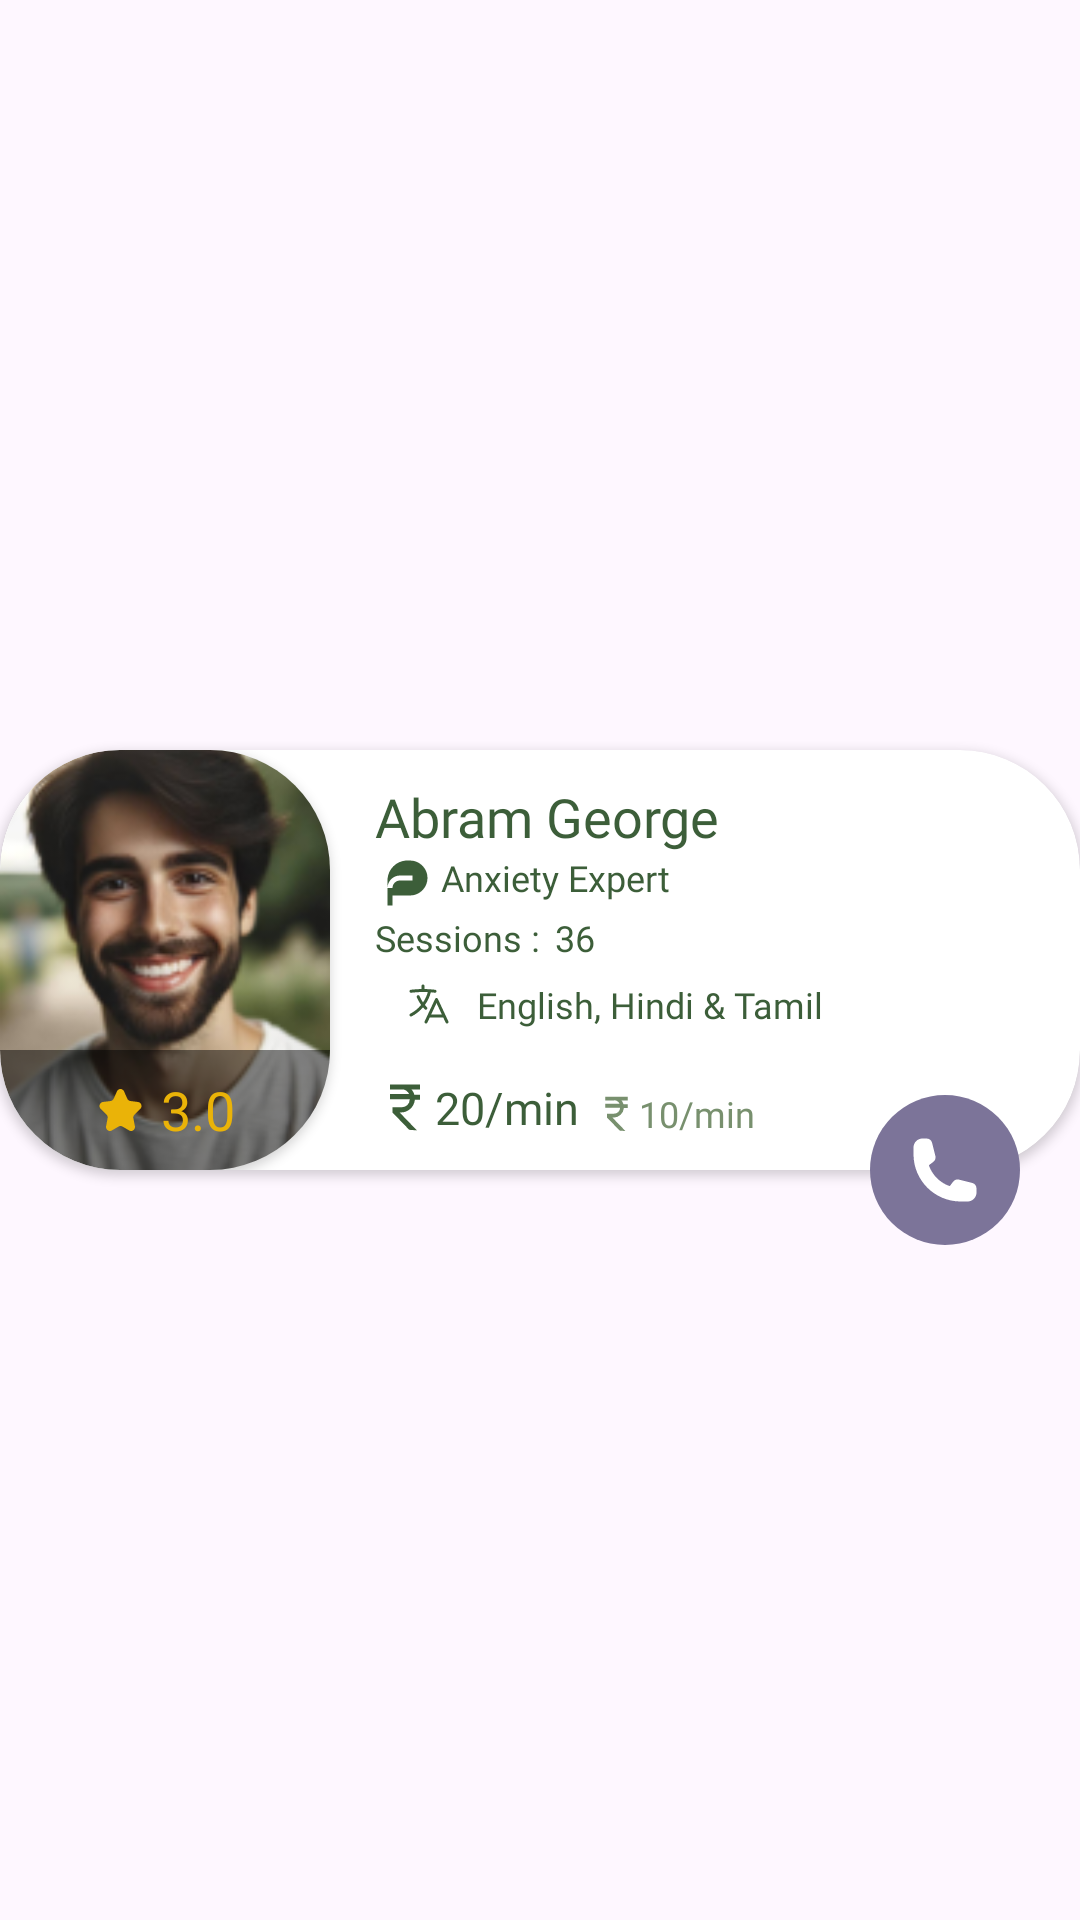

Screen size 1080w x 1920h. Icon name, then its box in pixels as [x1=x1, y1=y1, x2=x2, y2=y2]:
phone: [x1=870, y1=1095, x2=1020, y2=1245]
